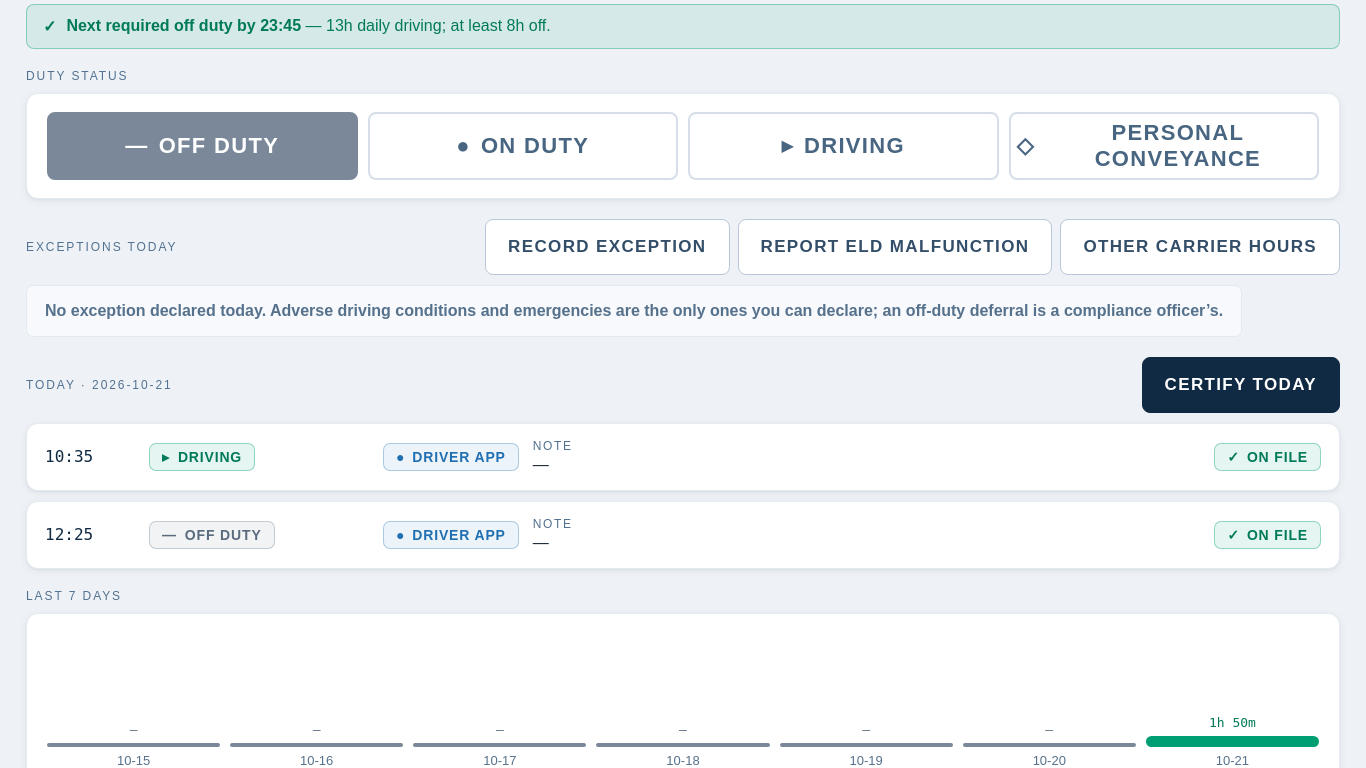
Test: Hours › Certify today opens the attestation sheet, and Certify queues hos.certify for that date
This screenshot has width=1366, height=768.
(page scrolled)
Click the button "Certify today".
click(1241, 385)  # box [1142,357,1340,413]
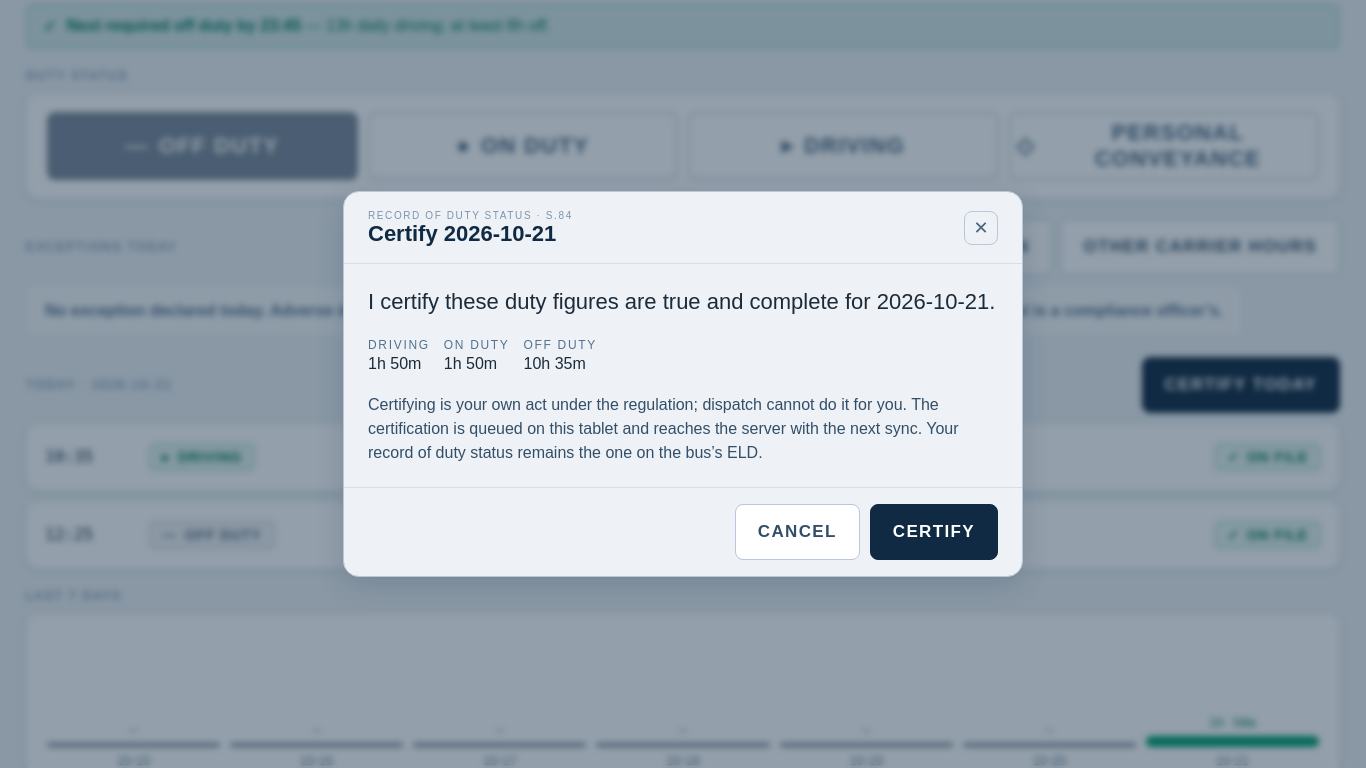
Click the button "Certify".
click(934, 532)  # box [870,504,998,560]
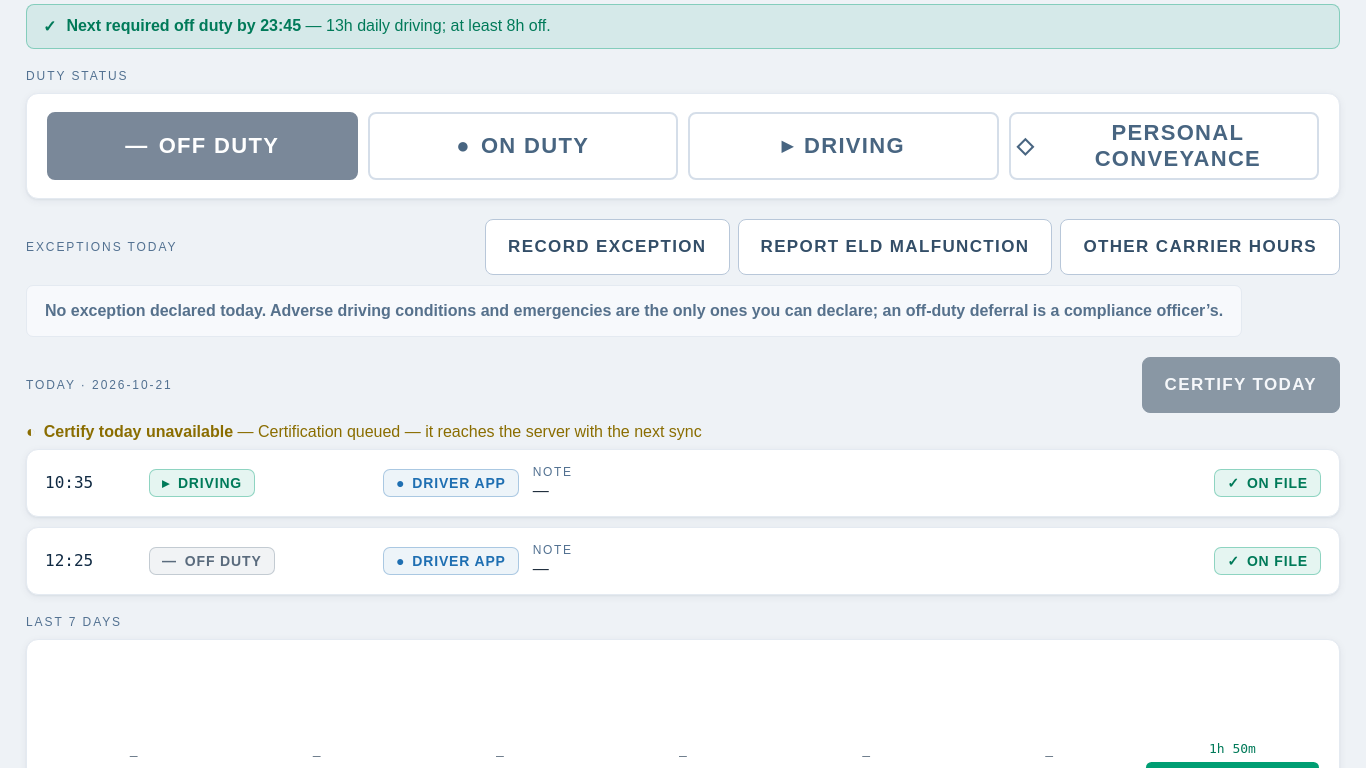
Now the text "Certification queued" is shown, box [258,423,702,440]
